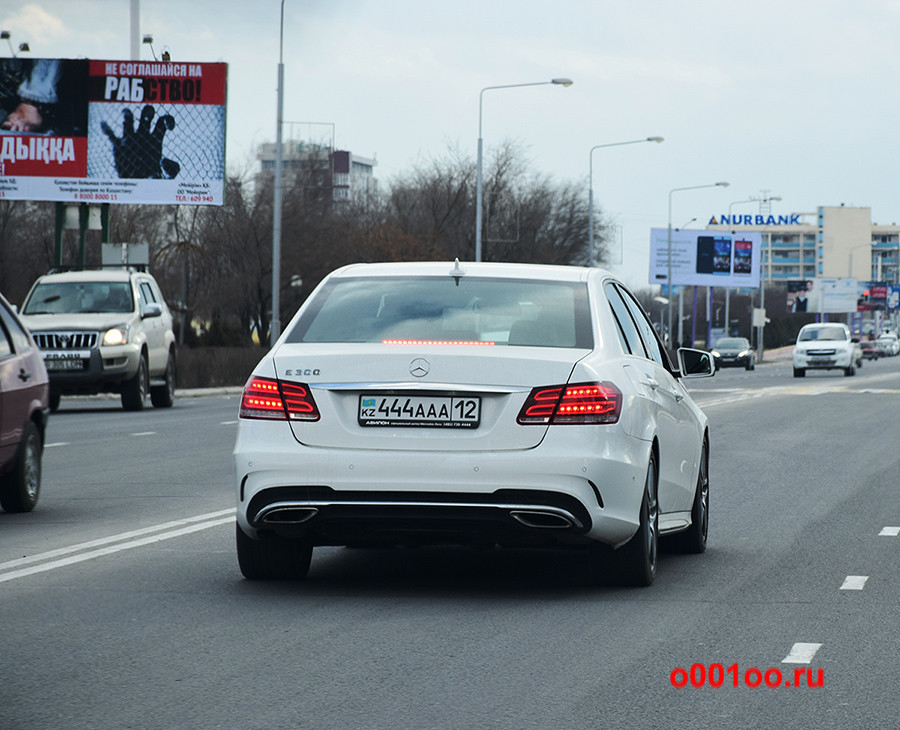license_plate: (358, 392, 483, 425)
